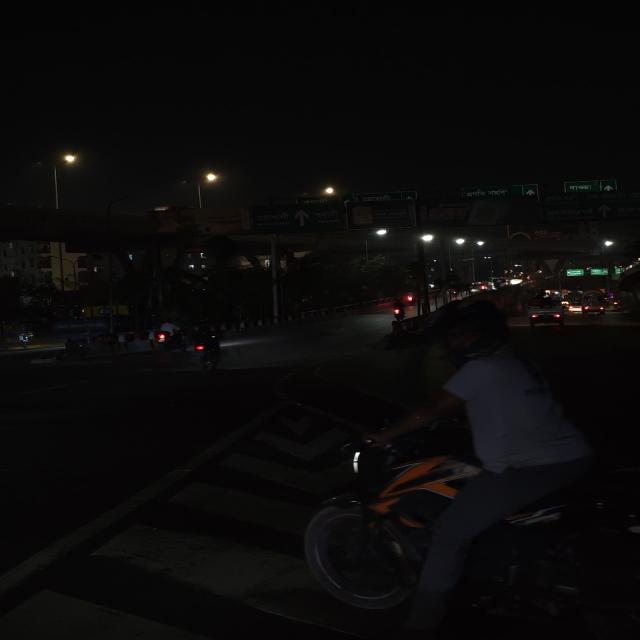car: (469, 282, 486, 294), (508, 276, 524, 286)
motorcycle: (184, 322, 228, 370), (152, 319, 184, 357), (386, 300, 409, 323)
pickup_van: (524, 292, 570, 327), (574, 293, 609, 315)
